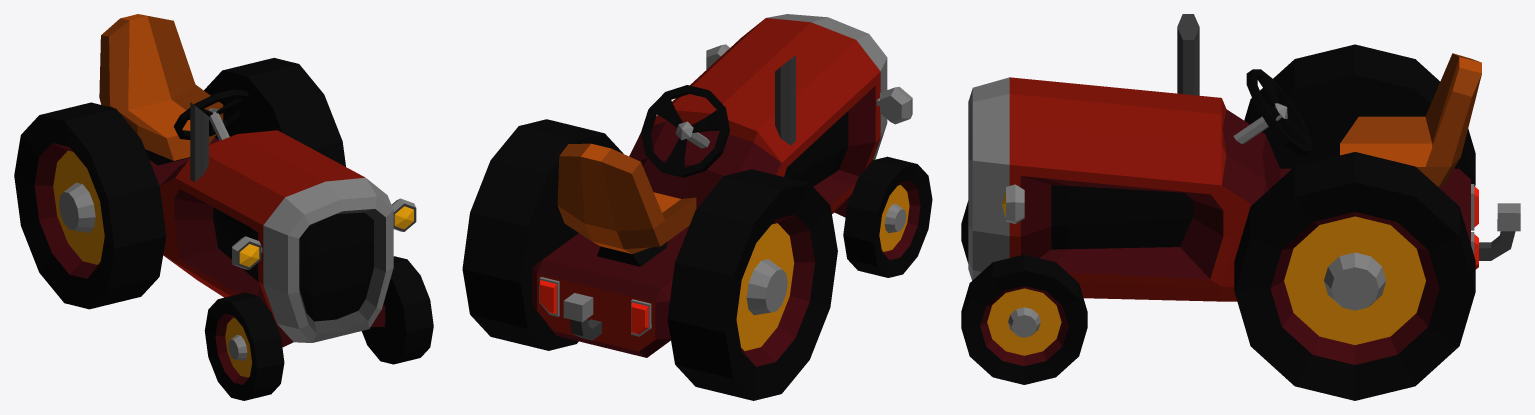
File: Traktor_1.fbx
The picture shows the model from 3 angles, left to right: view 1: azimuth 30°, elevation 25°; view 2: azimuth 150°, elevation 25°; view 3: azimuth 270°, elevation 25°; orthographic projection. The views are drawn at different scales.
Parts seen in each view (by area): view 1: Tracktor_1, Tracktor_1_BW, Tracktor_1_FW; view 2: Tracktor_1, Tracktor_1_BW, Tracktor_1_FW; view 3: Tracktor_1, Tracktor_1_BW, Tracktor_1_FW.
Boxes of the visible parts, x1,y1,x2,y2 form: Tracktor_1: (99,14,416,347); Tracktor_1_BW: (14,58,345,309); Tracktor_1_FW: (204,256,433,400); Tracktor_1: (532,14,912,357); Tracktor_1_BW: (462,119,837,400); Tracktor_1_FW: (843,156,932,277); Tracktor_1: (968,14,1520,301); Tracktor_1_BW: (1234,44,1475,400); Tracktor_1_FW: (961,201,1087,384).
Bounding box in the file's own units: 399 × 384 × 684.
1 material, 1 textured.
